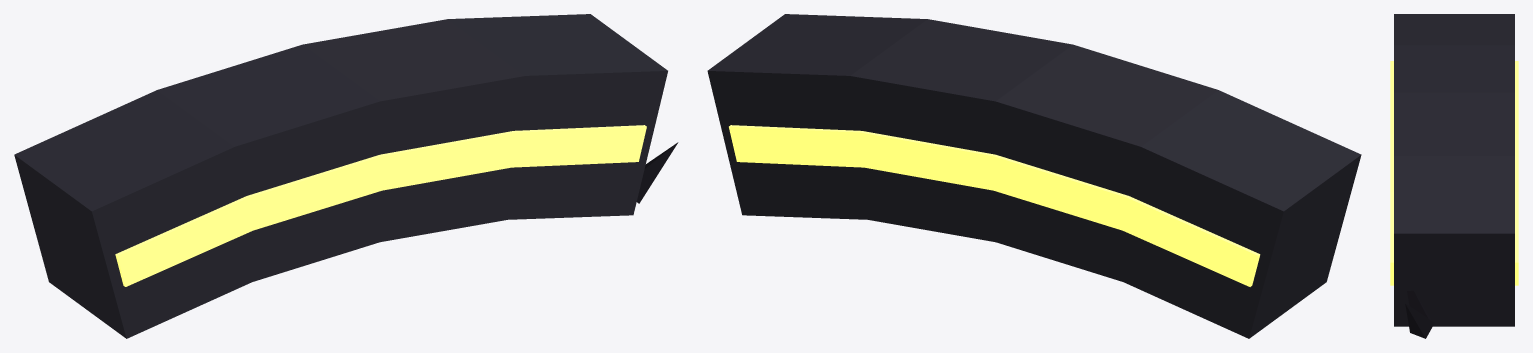
File: spillway_ring.glb
3 renders of one model, left to right at view 1: azimuth 30°, elevation 25°; view 2: azimuth 150°, elevation 25°; view 3: azimuth 270°, elevation 25°, orthographic. The views are drawn at different scales.
Parts seen in each view (by area): view 1: spillway_ring_corrupted, spillway_ring_restored; view 2: spillway_ring_corrupted, spillway_ring_restored; view 3: spillway_ring_corrupted, spillway_ring_restored.
Part boxes in pixels (x1,y1,x2,y2): spillway_ring_corrupted: (14,14,678,338); spillway_ring_restored: (115,125,646,286); spillway_ring_corrupted: (707,14,1361,338); spillway_ring_restored: (729,125,1260,286); spillway_ring_corrupted: (1394,14,1514,338); spillway_ring_restored: (1390,61,1518,285).
Bounding box in the file's own units: 3.98 × 1.14 × 0.95.
